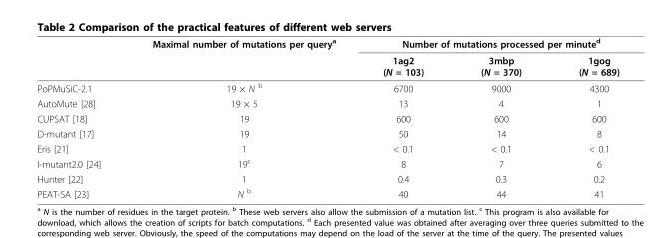table: (36, 36, 618, 199)
table column: (125, 36, 358, 199), (451, 36, 549, 199), (358, 36, 451, 199), (36, 36, 125, 199), (549, 36, 618, 199)
table column header: (36, 36, 618, 79)
table row: (36, 51, 618, 79), (36, 79, 618, 95), (36, 155, 618, 171), (36, 36, 618, 51), (36, 95, 618, 110), (36, 110, 618, 125), (36, 125, 618, 140), (36, 140, 618, 155), (36, 171, 618, 185), (36, 185, 618, 199)
table spanning cell: (125, 36, 358, 79), (358, 36, 618, 51)
